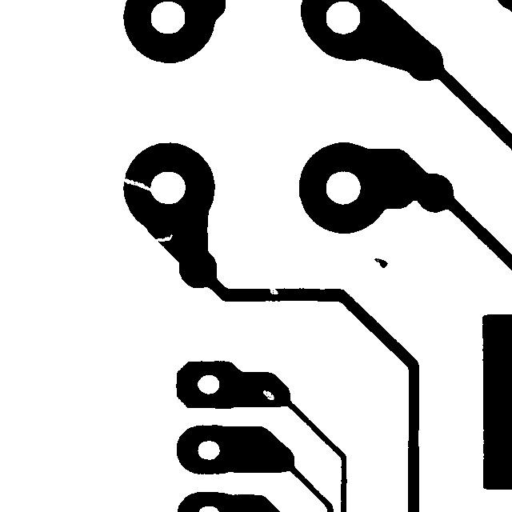copper: (366, 250, 395, 275)
mousebite: (145, 226, 180, 249), (262, 279, 286, 302)
open: (114, 170, 159, 199)
pin-hole: (255, 382, 282, 407)
